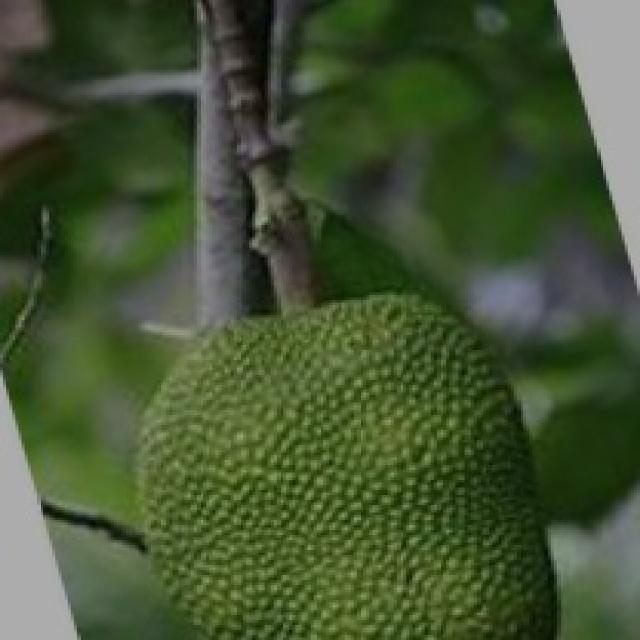Fruit: (222, 240, 622, 640)
